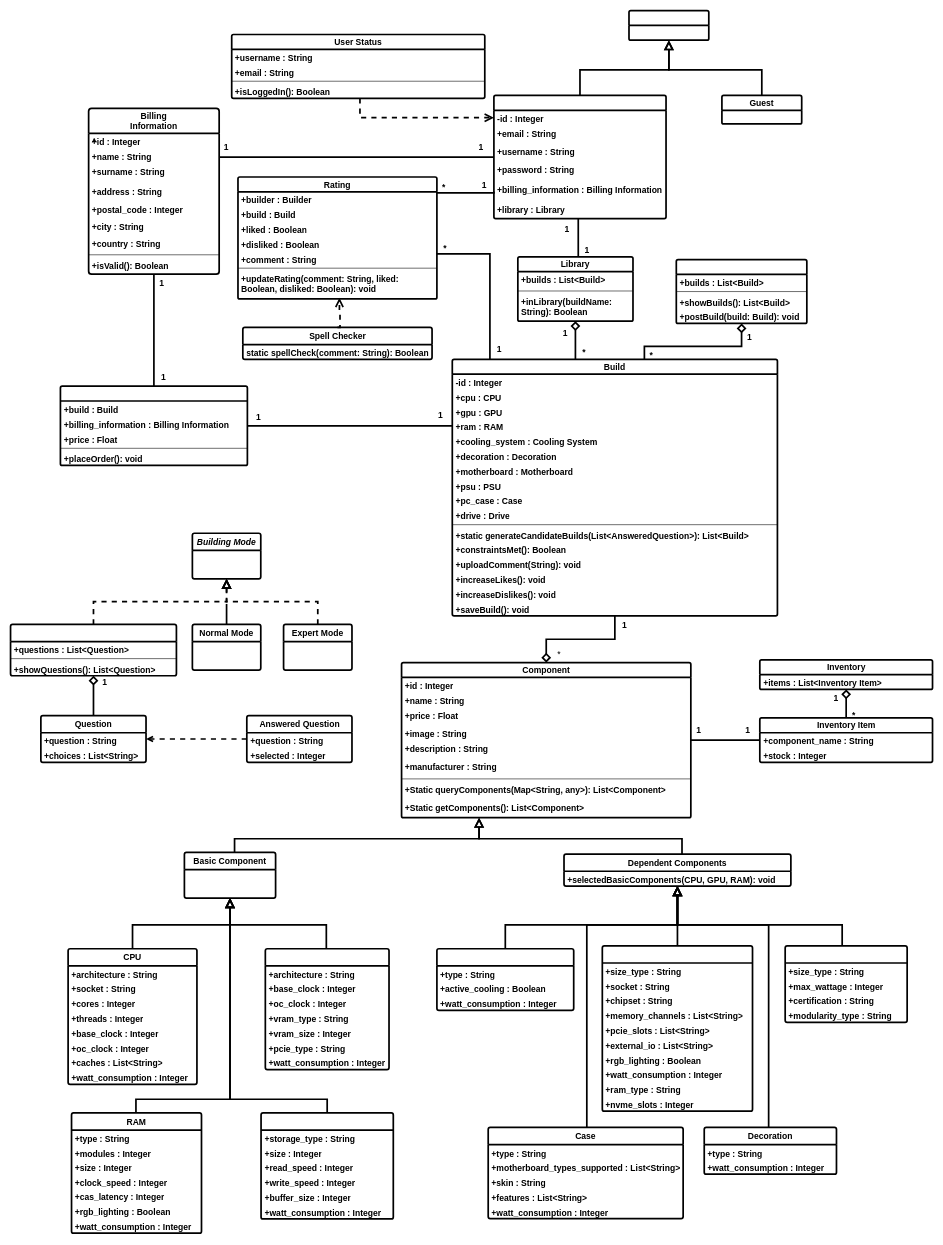
The diagram is 943 pixels wide and 1245 high, and some of its shapes have lost their labels. Here are the shapes that lost their labels. From the top down, the box of each, then its label:
(628, 9, 709, 41): User
(493, 94, 667, 219): Builder
(675, 258, 807, 324): Wall of Builds
(59, 385, 248, 466): Purchase
(9, 623, 177, 676): Beginner Mode
(436, 948, 574, 1011): Cooling System
(784, 945, 908, 1023): PSU
(264, 948, 390, 1070): GPU
(601, 945, 753, 1112): Motherboard
(260, 1112, 394, 1220): Drive
